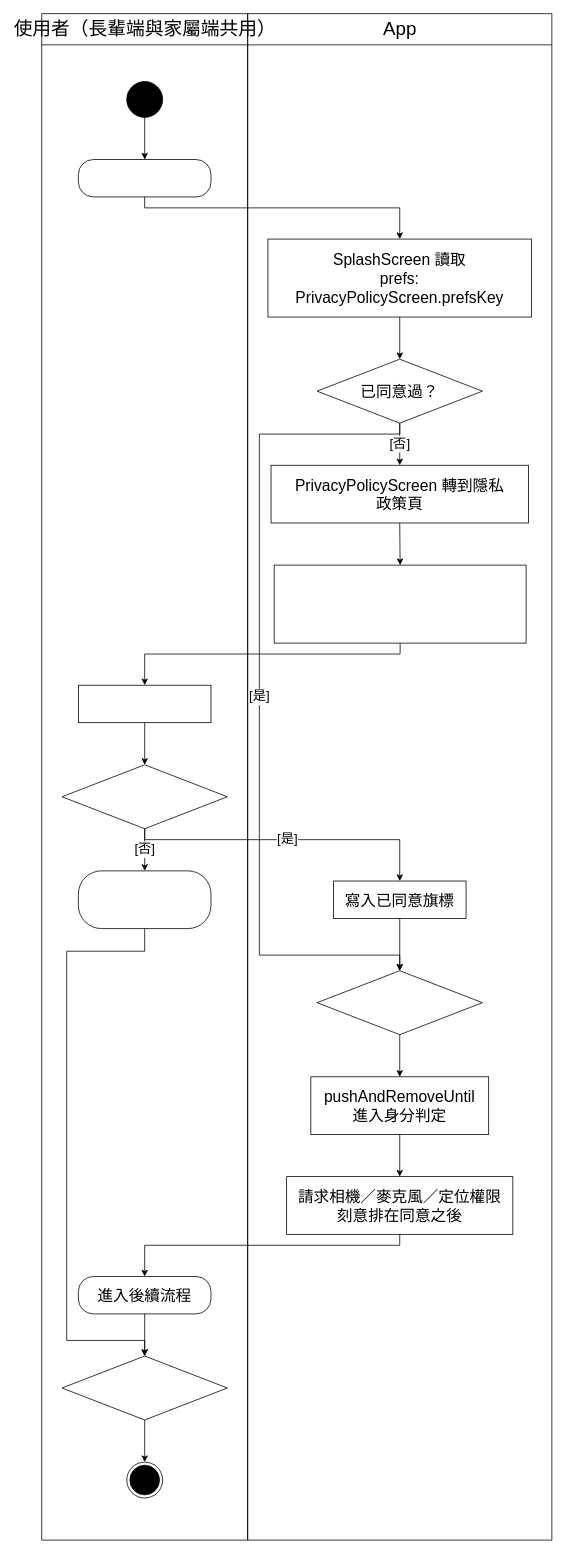
This 566x1554 diagram has some shape labels left out. The shapes that lost their labels are listed below. From the top down, each one's centre as x and y in pixels, then its label:
the point at 144,178: 首次啟動 App
the point at 399,603: 渲染 privacy_policy_content 影像・語音・向量化記憶 GPS 與室內定位・健康數據
the point at 144,703: 詳閱隱私權政策
the point at 144,796: 是否同意？
the point at 144,899: 停留在政策頁 無法繼續使用
